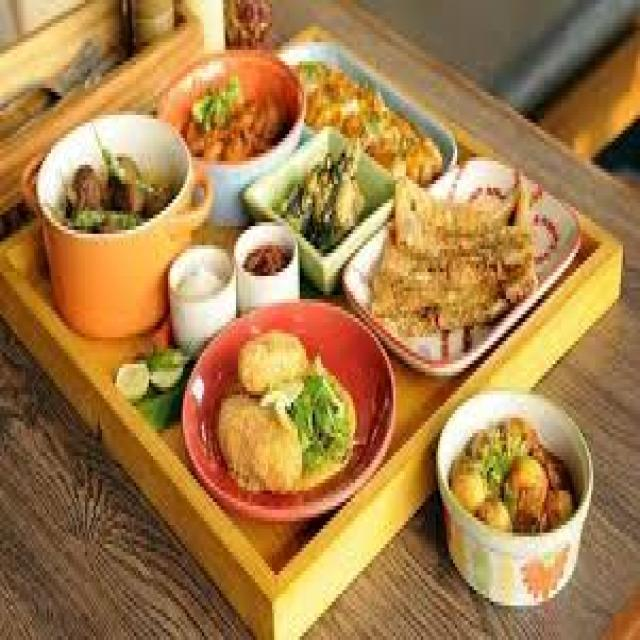curd: (161, 239, 238, 340)
roti: (366, 148, 536, 376)
veg: (308, 34, 431, 148)
veg-fry: (440, 396, 586, 566), (184, 40, 300, 178)
